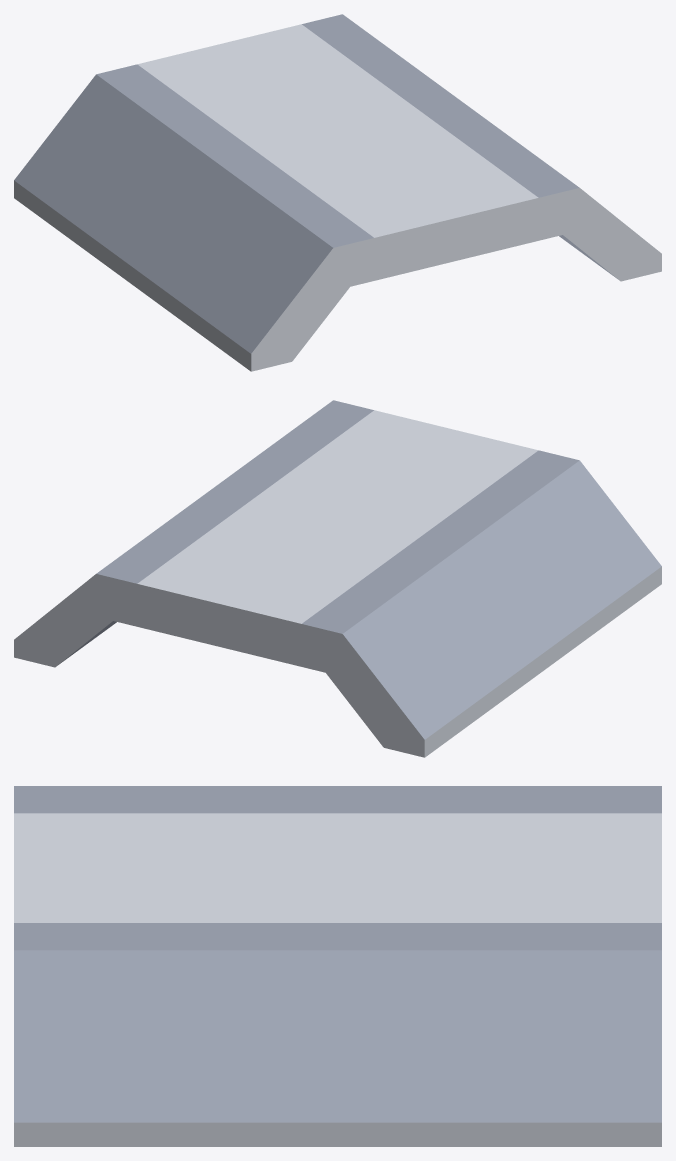
The model's file is corridor_roof.glb.
3 views of the same model, one above another, from view 1: azimuth 30°, elevation 25°; view 2: azimuth 150°, elevation 25°; view 3: azimuth 270°, elevation 25° (orthographic). The views are drawn at different scales.
Parts seen in each view (by area): view 1: corridor_roof; view 2: corridor_roof; view 3: corridor_roof.
Boxes of the visible parts, <box> form: corridor_roof: <box>14,14,661,371</box>; corridor_roof: <box>14,400,661,757</box>; corridor_roof: <box>14,786,661,1146</box>.
Size of the model in its own units: 1 by 0.2414 by 1.
